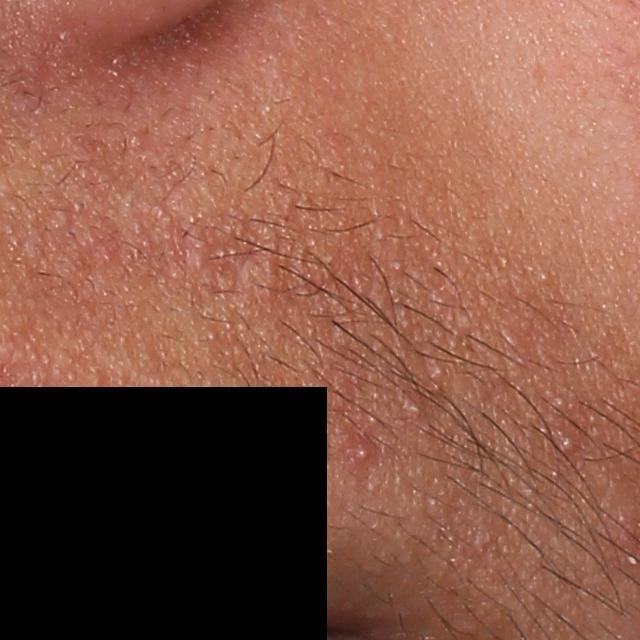comedo: (556, 433, 580, 459), (406, 401, 424, 419), (432, 364, 446, 380)
papule: (344, 439, 376, 473)
